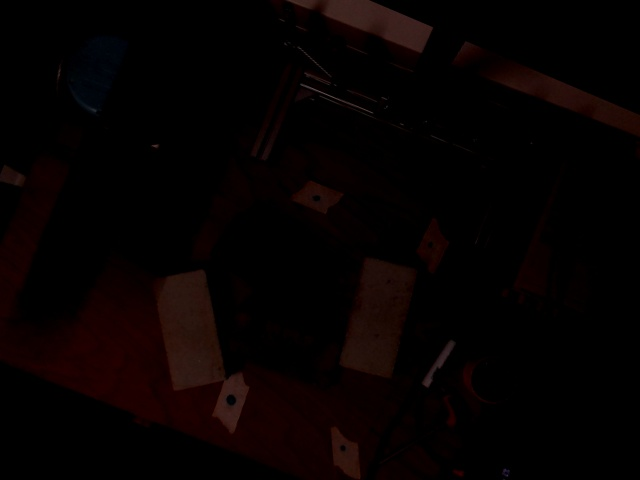brick: (209, 213, 329, 320), (227, 306, 344, 390), (338, 257, 420, 376), (152, 269, 225, 389)
